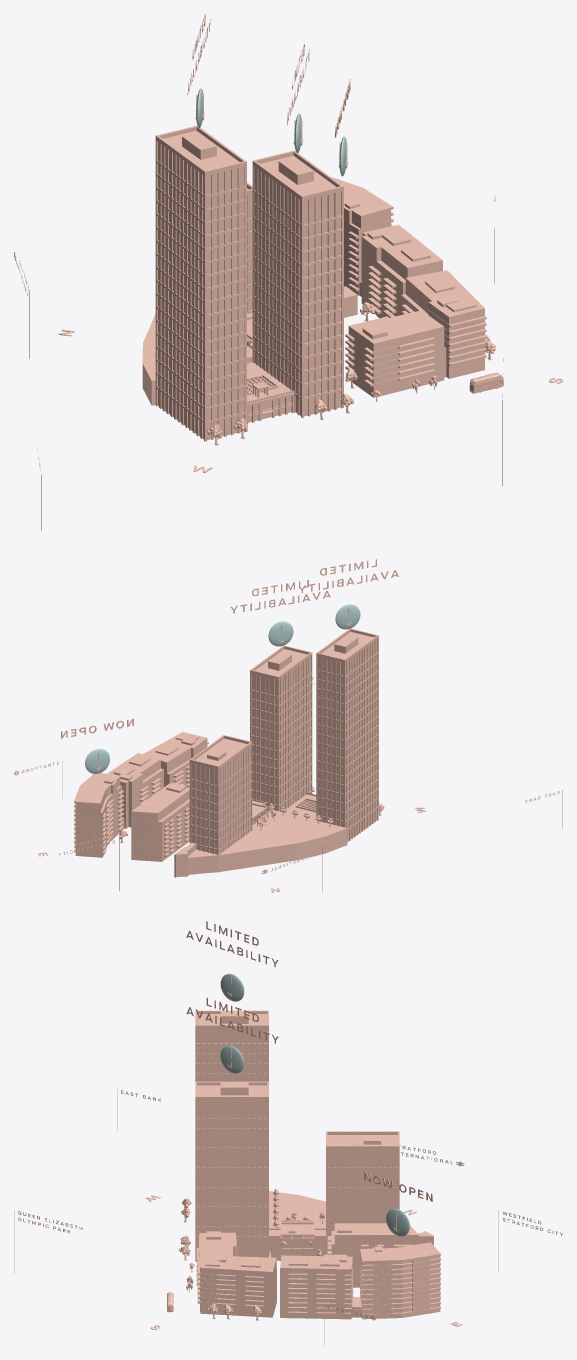
File: CMS29.gltf
3 renders of one model, top to bottom at view 1: azimuth 30°, elevation 25°; view 2: azimuth 150°, elevation 25°; view 3: azimuth 270°, elevation 25°, orthographic. The views are drawn at different scales.
Visible parts, largest first — view 1: Xavier, Bussell, Hows, Sandhu, Bulk, Harrison; view 2: Xavier, Bussell, Harrison, Bulk, Sandhu, Aarons, Hows, Open2, Open3, Arrow, Arrow3, Arrow5; view 3: Bussell, Sandhu, Harrison, Hows, Xavier, Bulk, Aarons, Open2, Open3, Arrow, Arrow3, Arrow5.
Part boxes in pixels (bbox=[...]): Xavier: bbox=[155, 125, 246, 441]; Bussell: bbox=[252, 150, 343, 417]; Hows: bbox=[345, 270, 486, 397]; Sandhu: bbox=[330, 176, 442, 318]; Bulk: bbox=[29, 228, 562, 530]; Harrison: bbox=[247, 182, 252, 314]; Xavier: bbox=[316, 628, 378, 842]; Bussell: bbox=[250, 645, 312, 811]; Harrison: bbox=[174, 735, 252, 877]; Bulk: bbox=[38, 761, 562, 892]; Sandhu: bbox=[74, 753, 163, 857]; Aarons: bbox=[131, 783, 189, 861]; Hows: bbox=[143, 732, 208, 787]; Open2: bbox=[298, 559, 398, 592]; Open3: bbox=[230, 580, 330, 613]; Arrow: bbox=[335, 604, 360, 629]; Arrow3: bbox=[268, 621, 293, 646]; Arrow5: bbox=[85, 748, 109, 773]; Bussell: bbox=[195, 1081, 268, 1261]; Sandhu: bbox=[280, 1242, 440, 1319]; Harrison: bbox=[326, 1131, 433, 1254]; Hows: bbox=[196, 1231, 276, 1317]; Xavier: bbox=[195, 1010, 268, 1081]; Bulk: bbox=[14, 1089, 498, 1345]; Aarons: bbox=[327, 1223, 418, 1287]; Open2: bbox=[186, 921, 278, 967]; Open3: bbox=[186, 997, 278, 1043]; Arrow: bbox=[220, 973, 244, 1001]; Arrow3: bbox=[220, 1045, 244, 1073]; Arrow5: bbox=[386, 1208, 409, 1236].
Bounding box in the file's own units: 308 × 182 × 313.
Materials: 3 (2 with a texture image).
